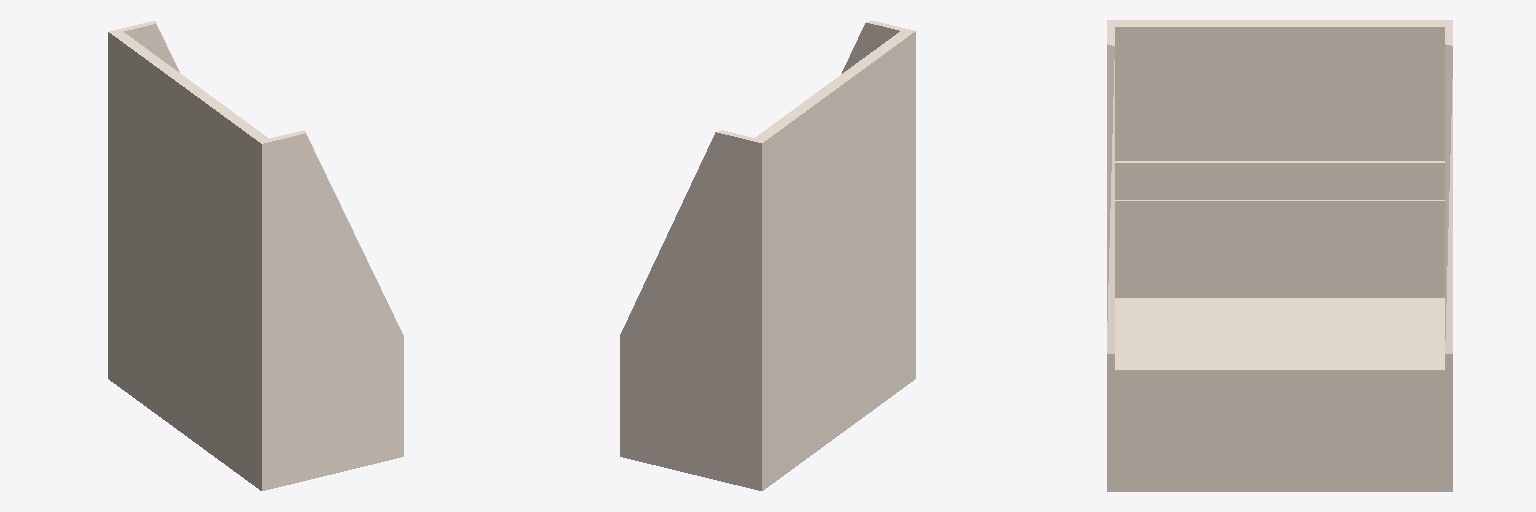
robot.urdf — shelf_real:
<?xml version="0.0" ?>
<robot name="shelf_real">
  <link name="baseLink">
    <contact>
      <lateral_friction value="1.0"/>
    </contact>
    <inertial>
      <origin rpy="0 0 0" xyz="0 0 0"/>
       <mass value="1.0"/>
       <inertia ixx="1" ixy="0" ixz="0" iyy="1" iyz="0" izz="1"/>
    </inertial>
    <visual>
      <origin rpy="0 0 0" xyz="0 0 0"/>
      <geometry>
	<mesh filename="back_plank.obj" scale="1 1 1"/>
      </geometry>
       <material name="white">
        <color rgba="1 0.95 0.9 1"/>
      </material>
    </visual>
    <collision>
      <origin rpy="0 0 0" xyz="0 0 0"/>
      <geometry>
	 <mesh filename="back_plank.obj" scale="1 1 1"/>
      </geometry>
    </collision>
  </link>

  <joint name="bottom_drawer_joint" type="fixed">
        <origin rpy="0 0 0" xyz="0.0 0.0 0.0"/>
        <parent link="baseLink"/>
        <child link="bottom_drawer"/>
        <axis xyz="0 0 1" />
  </joint>

  <link name="bottom_drawer">
    <contact>
      <lateral_friction value="1.0"/>
    </contact>
    <inertial>
      <origin rpy="0 0 0" xyz="0 0 0"/>
       <mass value="1.0"/>
       <inertia ixx="1" ixy="0" ixz="0" iyy="1" iyz="0" izz="1"/>
    </inertial>
    <visual>
      <origin rpy="0 0 0" xyz="0 0 0"/>
      <geometry>
	<mesh filename="bottom_drawer.obj" scale="1 1 1"/>
      </geometry>
       <material name="white">
        <color rgba="1 0.95 0.9 1"/>
      </material>
    </visual>
    <collision>
      <origin rpy="0 0 0" xyz="0 0 0"/>
      <geometry>
	 <mesh filename="bottom_drawer.obj" scale="1 1 1"/>
      </geometry>
    </collision>
  </link>

  <joint name="left_plank_joint" type="fixed">
        <origin rpy="0 0 0" xyz="0.0 0.0 0.0"/>
        <parent link="baseLink"/>
        <child link="left_plank"/>
        <axis xyz="0 0 1" />
  </joint>

  <link name="left_plank">
    <contact>
      <lateral_friction value="1.0"/>
    </contact>
    <inertial>
      <origin rpy="0 0 0" xyz="0 0 0"/>
       <mass value="1.0"/>
       <inertia ixx="1" ixy="0" ixz="0" iyy="1" iyz="0" izz="1"/>
    </inertial>
    <visual>
      <origin rpy="0 0 0" xyz="0 0 0"/>
      <geometry>
	<mesh filename="left_plank.obj" scale="1 1 1"/>
      </geometry>
       <material name="white">
        <color rgba="1 0.95 0.9 1"/>
      </material>
    </visual>
    <collision>
      <origin rpy="0 0 0" xyz="0 0 0"/>
      <geometry>
	 <mesh filename="left_plank.obj" scale="1 1 1"/>
      </geometry>
    </collision>
  </link>

  <joint name="right_plank_joint" type="fixed">
        <origin rpy="0 0 0" xyz="0.0 0.0 0.0"/>
        <parent link="baseLink"/>
        <child link="right_plank"/>
        <axis xyz="0 0 1" />
  </joint>

  <link name="right_plank">
    <contact>
      <lateral_friction value="1.0"/>
    </contact>
    <inertial>
      <origin rpy="0 0 0" xyz="0 0 0"/>
       <mass value="1.0"/>
       <inertia ixx="1" ixy="0" ixz="0" iyy="1" iyz="0" izz="1"/>
    </inertial>
    <visual>
      <origin rpy="0 0 0" xyz="0 0 0"/>
      <geometry>
	<mesh filename="right_plank.obj" scale="1 1 1"/>
      </geometry>
       <material name="white">
        <color rgba="1 0.95 0.9 1"/>
      </material>
    </visual>
    <collision>
      <origin rpy="0 0 0" xyz="0 0 0"/>
      <geometry>
	 <mesh filename="right_plank.obj" scale="1 1 1"/>
      </geometry>
    </collision>
  </link>

  <joint name="middle_plank_joint" type="fixed">
        <origin rpy="0 0 0" xyz="0.0 0.0 0.0"/>
        <parent link="baseLink"/>
        <child link="middle_plank"/>
        <axis xyz="0 0 1" />
  </joint>

  <link name="middle_plank">
    <contact>
      <lateral_friction value="1.0"/>
    </contact>
    <inertial>
      <origin rpy="0 0 0" xyz="0 0 0"/>
       <mass value="1.0"/>
       <inertia ixx="1" ixy="0" ixz="0" iyy="1" iyz="0" izz="1"/>
    </inertial>
    <visual>
      <origin rpy="0 0 0" xyz="0 0 0"/>
      <geometry>
	<mesh filename="middle_plank.obj" scale="1 1 1"/>
      </geometry>
       <material name="white">
        <color rgba="1 0.95 0.9 1"/>
      </material>
    </visual>
    <collision>
      <origin rpy="0 0 0" xyz="0 0 0"/>
      <geometry>
	 <mesh filename="middle_plank.obj" scale="1 1 1"/>
      </geometry>
    </collision>
  </link>

  <joint name="baffle_joint" type="fixed">
        <origin rpy="0 0 0" xyz="0.0 0.0 0.0"/>
        <parent link="baseLink"/>
        <child link="baffle"/>
        <axis xyz="0 0 1" />
  </joint>

  <link name="baffle">
    <contact>
      <lateral_friction value="1.0"/>
    </contact>
    <inertial>
      <origin rpy="0 0 0" xyz="0 0 0"/>
       <mass value="1.0"/>
       <inertia ixx="1" ixy="0" ixz="0" iyy="1" iyz="0" izz="1"/>
    </inertial>
    <visual>
      <origin rpy="0 0 0" xyz="0 0 0"/>
      <geometry>
	<mesh filename="baffle.obj" scale="1 1 1"/>
      </geometry>
       <material name="white">
        <color rgba="1 0.95 0.9 1"/>
      </material>
    </visual>
    <collision>
      <origin rpy="0 0 0" xyz="0 0 0"/>
      <geometry>
	 <mesh filename="baffle.obj" scale="1 1 1"/>
      </geometry>
    </collision>
  </link>

  <joint name="baffle_middle_joint" type="fixed">
        <origin rpy="0 0 0" xyz="0.0 0.0 0.0"/>
        <parent link="baseLink"/>
        <child link="baffle_middle"/>
        <axis xyz="0 0 1" />
  </joint>

  <link name="baffle_middle">
    <contact>
      <lateral_friction value="1.0"/>
    </contact>
    <inertial>
      <origin rpy="0 0 0" xyz="0 0 0"/>
       <mass value="1.0"/>
       <inertia ixx="1" ixy="0" ixz="0" iyy="1" iyz="0" izz="1"/>
    </inertial>
    <visual>
      <origin rpy="0 0 0" xyz="0 0 0"/>
      <geometry>
	<mesh filename="baffle_middle.obj" scale="1 1 1"/>
      </geometry>
       <material name="white">
        <color rgba="1 0.95 0.9 1"/>
      </material>
    </visual>
    <collision>
      <origin rpy="0 0 0" xyz="0 0 0"/>
      <geometry>
	 <mesh filename="baffle_middle.obj" scale="1 1 1"/>
      </geometry>
    </collision>
  </link>
</robot>

--- Facts derived from the render (not from the file) ---
Views: 3 orthographic renders of the robot side by side, from view 1: azimuth 30°, elevation 25°; view 2: azimuth 150°, elevation 25°; view 3: azimuth 270°, elevation 25°.
Robot: shelf_real — 7 links, 6 joints (6 fixed); root link baseLink; default pose: every joint at zero.
Visible links, largest first — view 1: baseLink, left_plank, right_plank; view 2: baseLink, right_plank, left_plank; view 3: baseLink, bottom_drawer, baffle_middle, baffle, left_plank, right_plank.
Boxes of the visible links, x1,y1,x2,y2 form: baseLink: [108, 29, 272, 490]; left_plank: [258, 130, 403, 490]; right_plank: [108, 21, 179, 380]; baseLink: [751, 29, 915, 490]; right_plank: [620, 130, 765, 490]; left_plank: [842, 21, 915, 381]; baseLink: [1107, 20, 1451, 297]; bottom_drawer: [1115, 298, 1444, 491]; baffle_middle: [1115, 161, 1444, 199]; baffle: [1115, 200, 1444, 216]; left_plank: [1107, 20, 1114, 491]; right_plank: [1445, 20, 1452, 491].
Size in the robot's own frame: 0.427 by 0.8 by 1 metres.
Meshes: 7 distinct files referenced, 7 mesh visuals loaded (7 OBJ).
